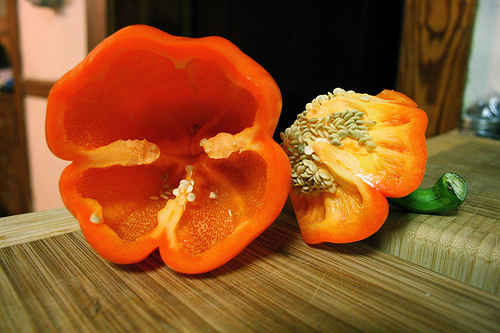capsicum: (43, 24, 292, 274), (279, 85, 464, 242)
